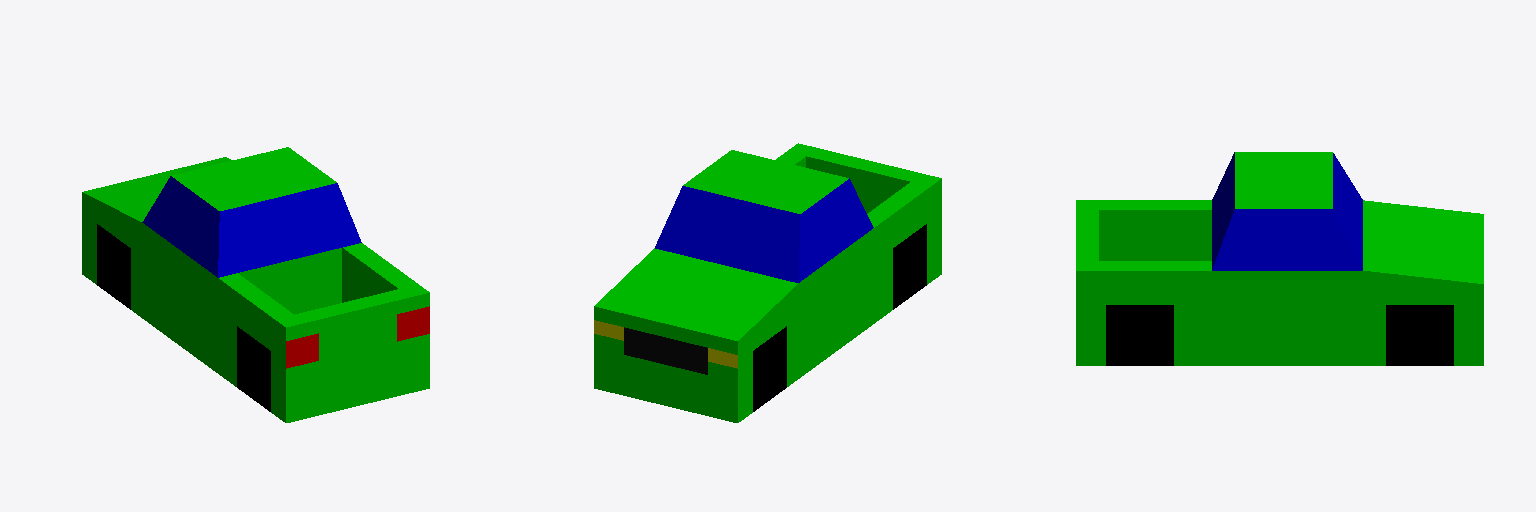
File: pickup_car.obj
3 views of the same model, side by side, from view 1: azimuth 30°, elevation 25°; view 2: azimuth 150°, elevation 25°; view 3: azimuth 270°, elevation 25° (orthographic).
Parts seen in each view (by area): view 1: pickup; view 2: pickup; view 3: pickup.
Part boxes in pixels (left/top/right/bottom): pickup: left=82, top=147, right=429, bottom=422; pickup: left=594, top=143, right=941, bottom=422; pickup: left=1076, top=152, right=1483, bottom=365.
Size of the model in its own units: 11 by 11 by 27.